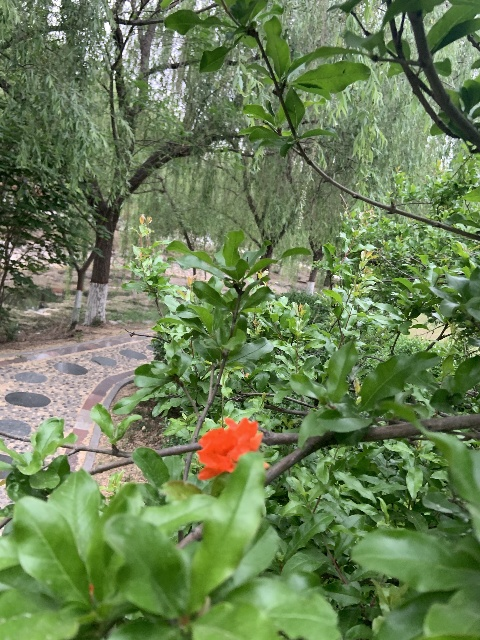flower: (195, 416, 269, 480)
